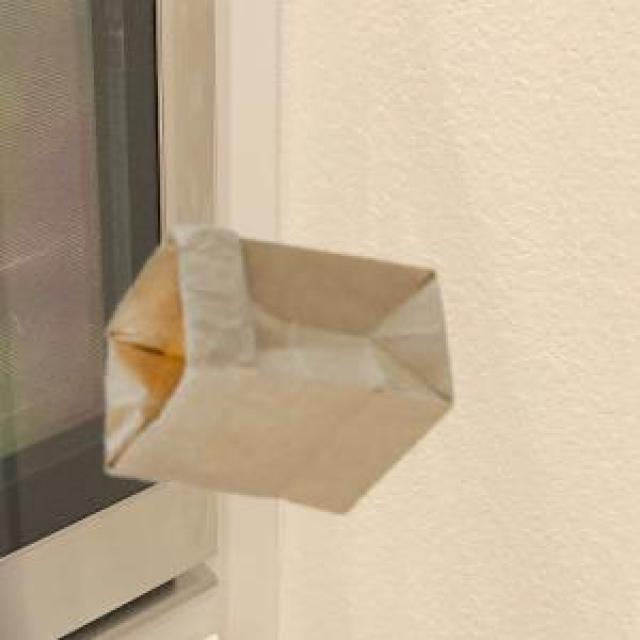paper: (102, 224, 448, 510)
